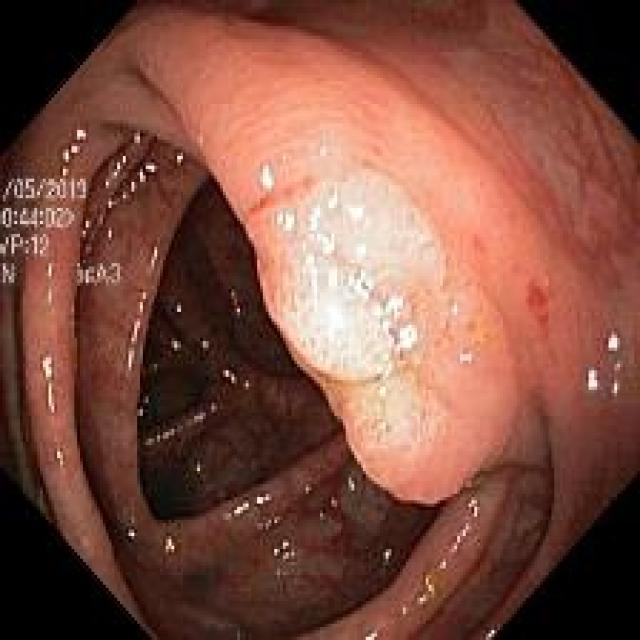Polyps: (246, 171, 519, 504)
